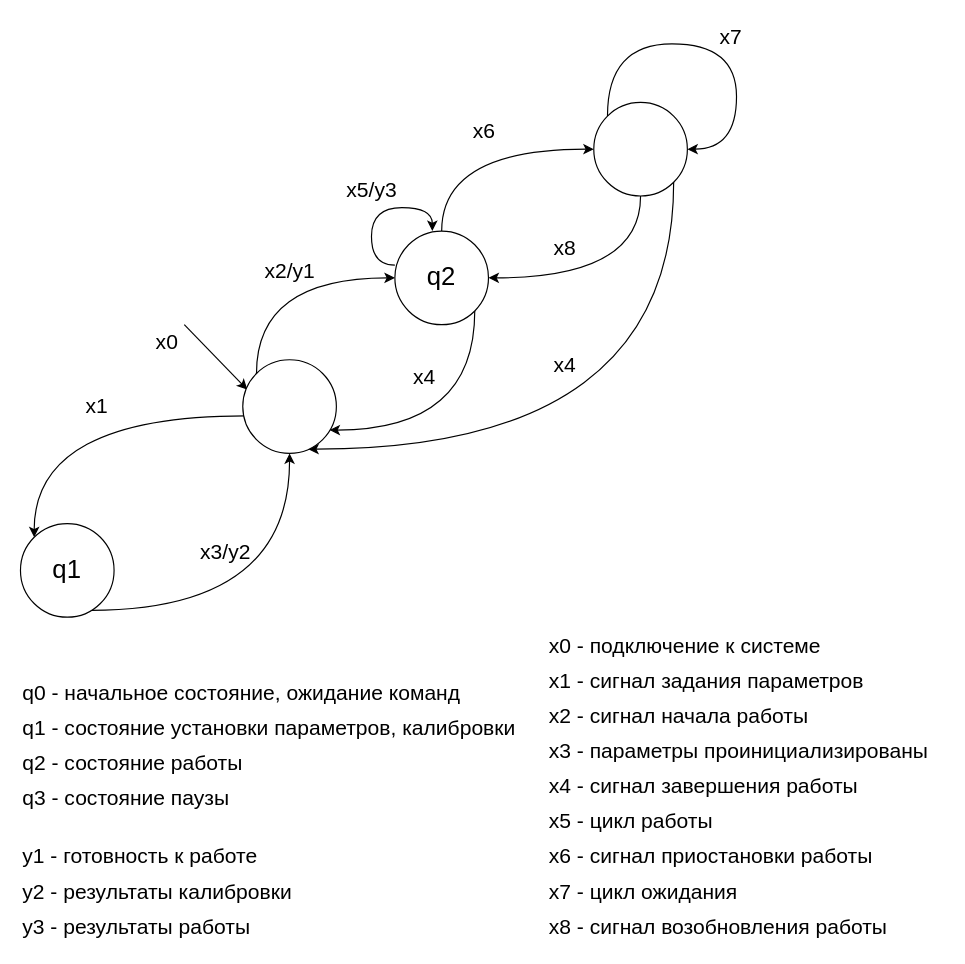
The diagram is 965 pixels wide and 964 high, and some of its shapes have lost their labels. The centre of each missing label's shape, as x and y in pixels:
"q0" belongs at point 289,406.
"q3" belongs at point 640,148.
